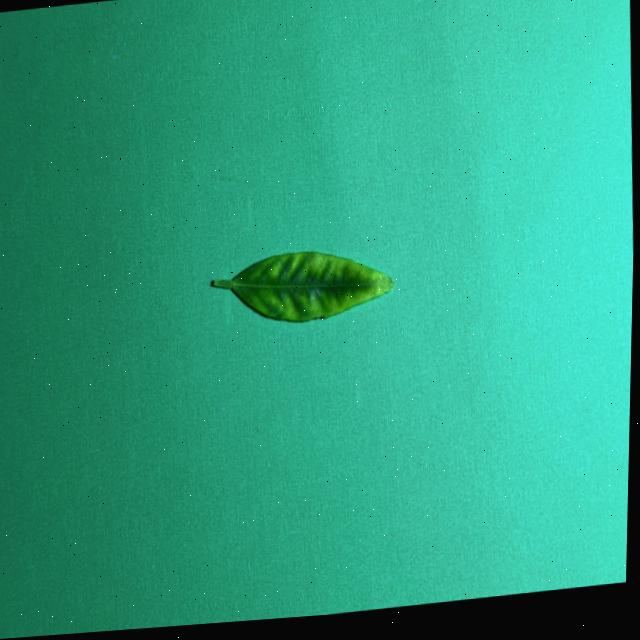greening: (213, 250, 393, 320)
